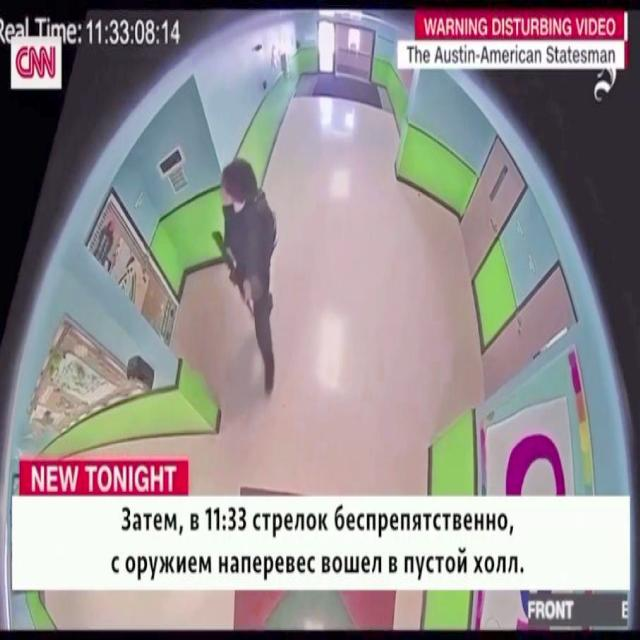gun: (209, 155, 281, 397), (211, 229, 270, 344)
